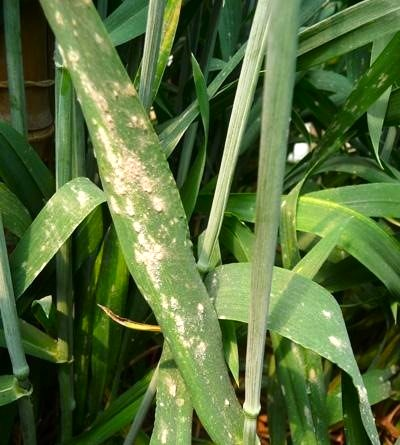Powdery Mildew: (68, 49, 229, 364)
